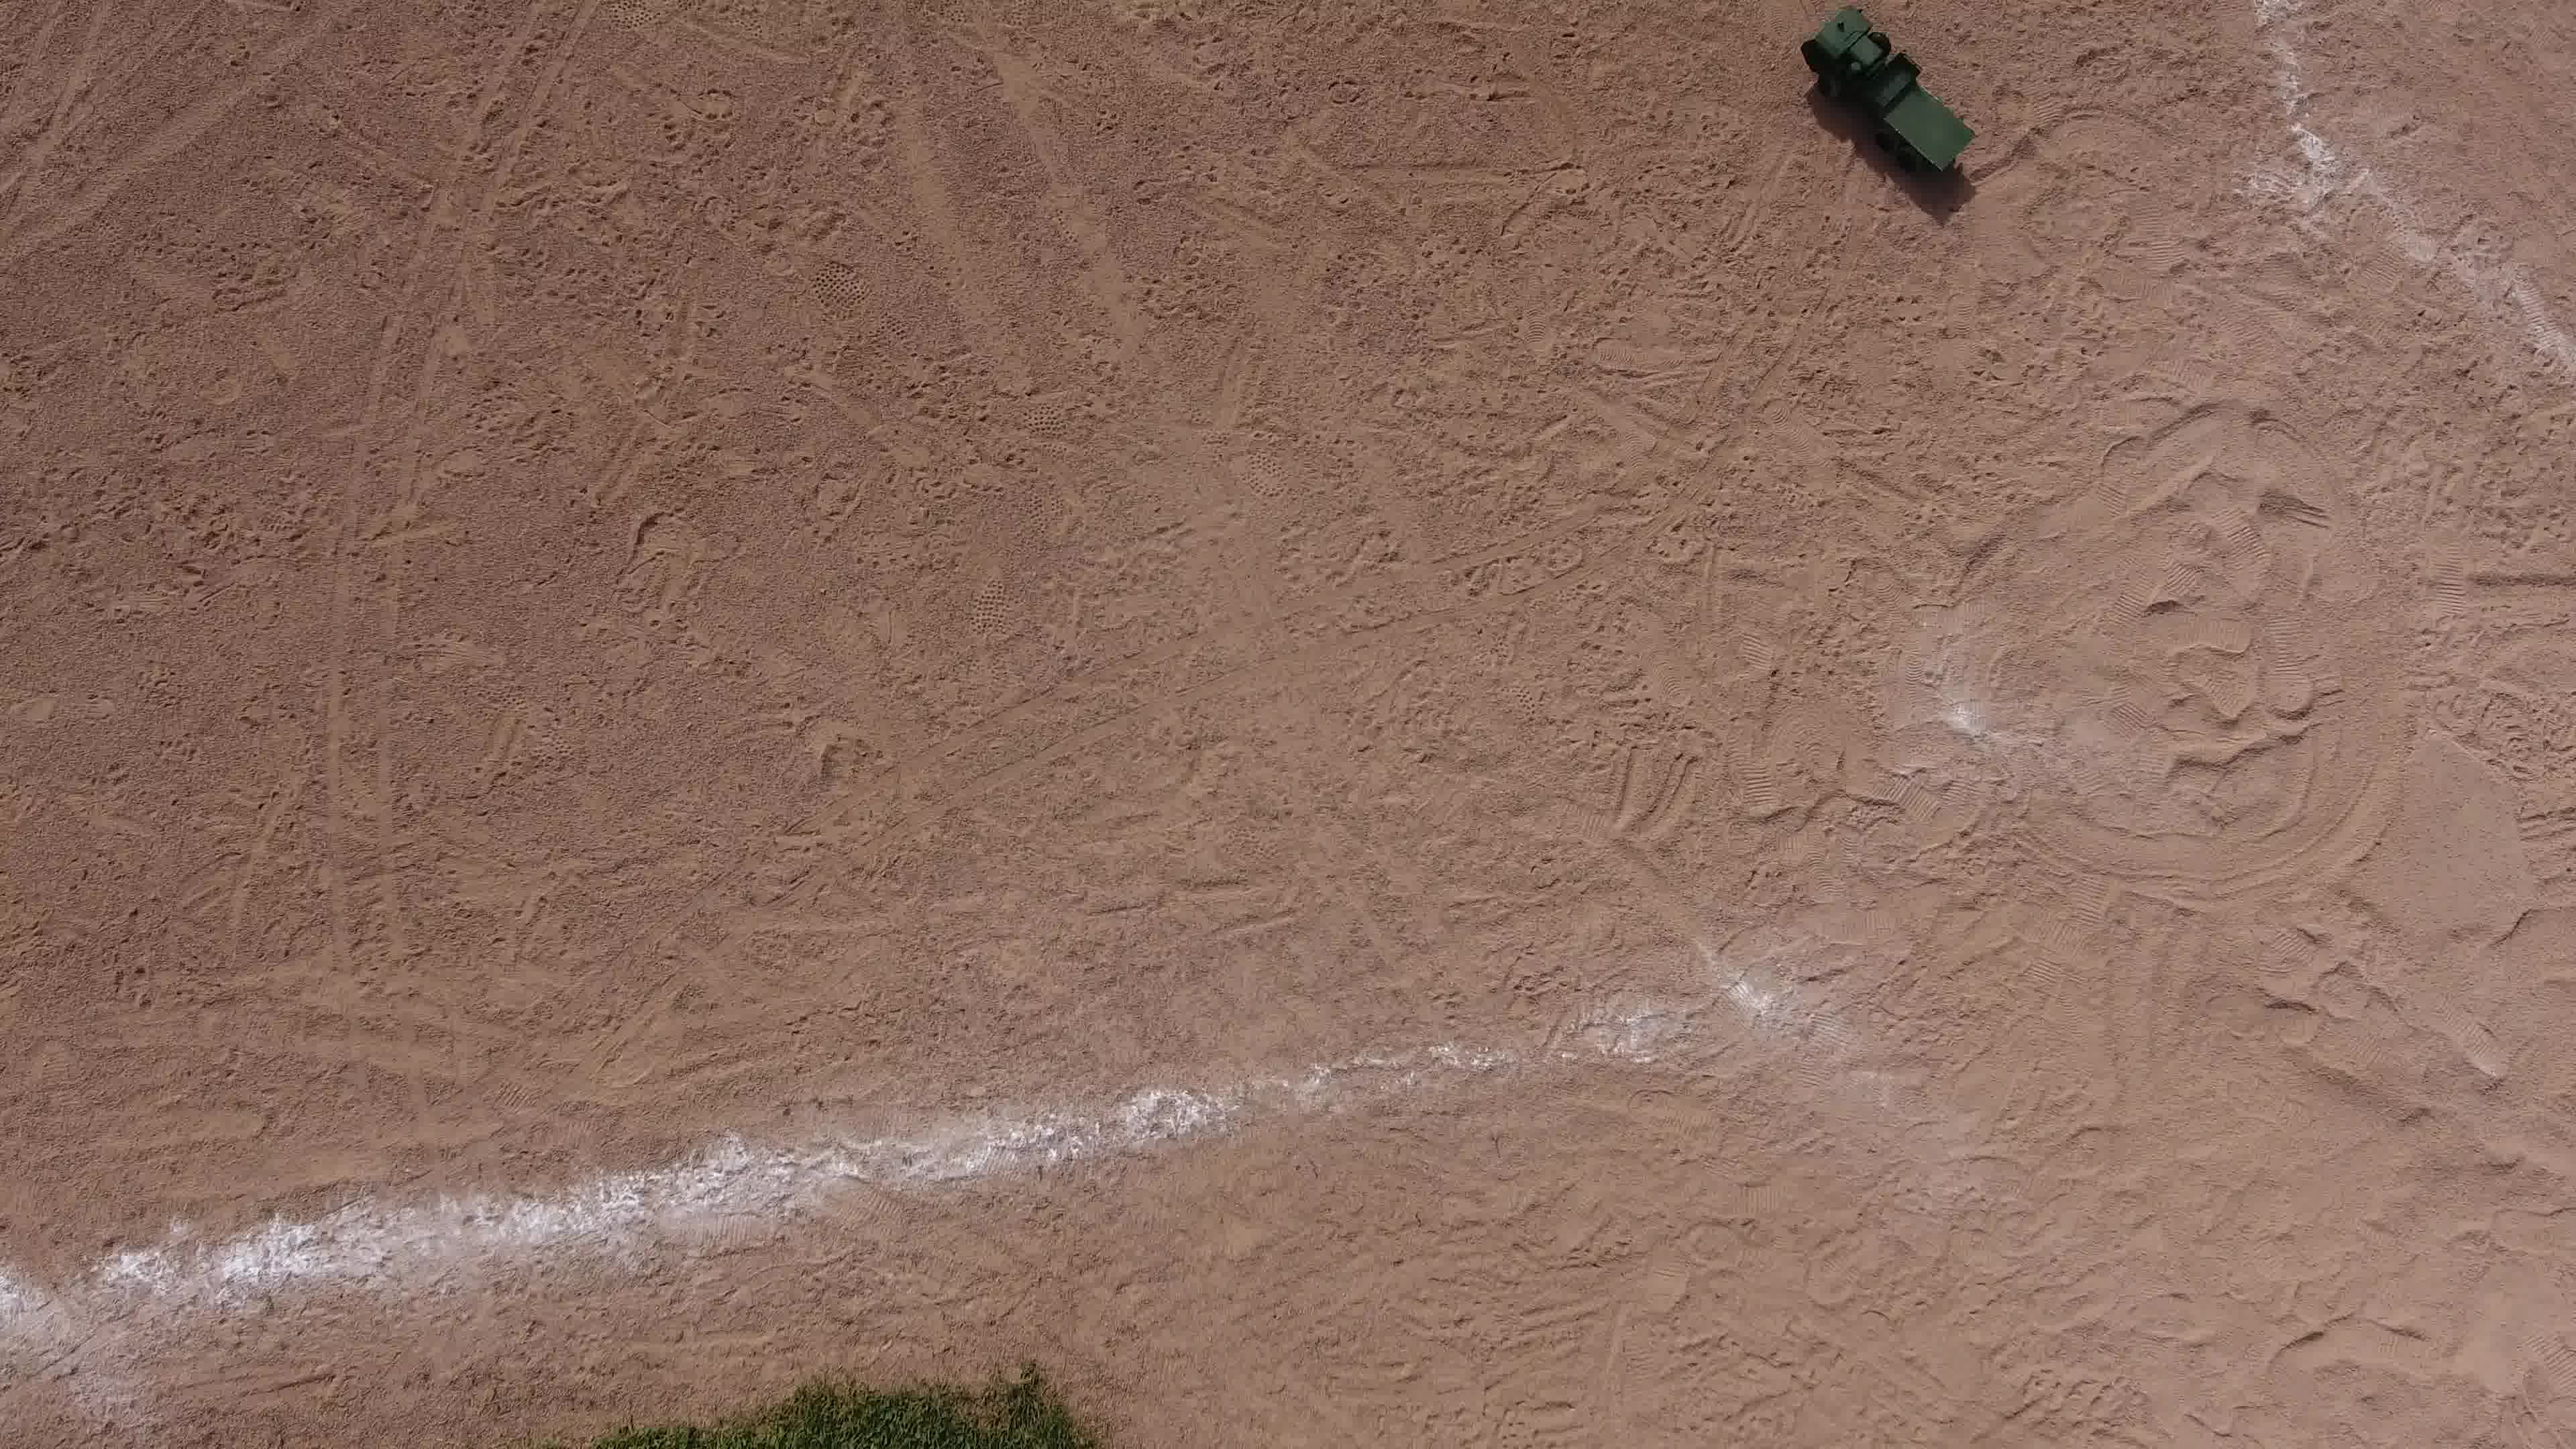transporter9: (1799, 7, 1983, 198)
